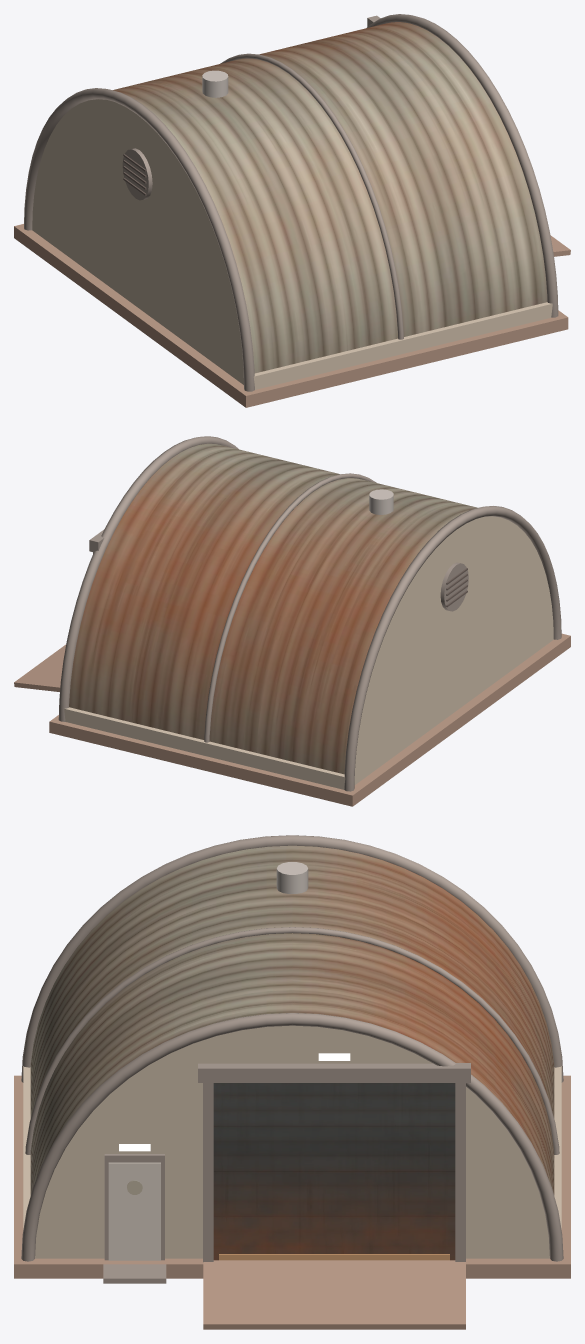
File: I04_arched_hall_2seg.glb
3 renders of one model, top to bottom at view 1: azimuth 30°, elevation 25°; view 2: azimuth 150°, elevation 25°; view 3: azimuth 270°, elevation 25°, orthographic. The views are drawn at different scales.
Parts seen in each view (by area): view 1: vault, gable_wall, segment_rib, foundation, base_beam, roof_vent; view 2: vault, gable_wall, segment_rib, foundation, base_beam, roof_vent; view 3: vault, large_door, gable_wall, segment_rib, foundation, base_beam, roof_vent.
Part boxes in pixels (x1=…): vault: x1=113, y1=22, x2=547, y2=373; gable_wall: x1=32, y1=99, x2=243, y2=384; segment_rib: x1=24, y1=14, x2=558, y2=391; foundation: x1=14, y1=224, x2=570, y2=407; base_beam: x1=123, y1=154, x2=552, y2=389; roof_vent: x1=202, y1=70, x2=228, y2=97; vault: x1=69, y1=443, x2=477, y2=774; gable_wall: x1=354, y1=516, x2=553, y2=784; segment_rib: x1=58, y1=436, x2=561, y2=791; foundation: x1=14, y1=633, x2=570, y2=806; base_beam: x1=64, y1=568, x2=467, y2=789; roof_vent: x1=369, y1=489, x2=393, y2=514; vault: x1=30, y1=845, x2=554, y2=1194; large_door: x1=213, y1=1083, x2=455, y2=1260; gable_wall: x1=35, y1=1025, x2=549, y2=1258; segment_rib: x1=21, y1=835, x2=563, y2=1283; foundation: x1=14, y1=1075, x2=570, y2=1329; base_beam: x1=23, y1=1066, x2=561, y2=1260; roof_vent: x1=276, y1=862, x2=308, y2=893.
Bounding box in the file's own units: 10.65 × 5.78 × 10.6.
Materials: 9 (2 with a texture image).
